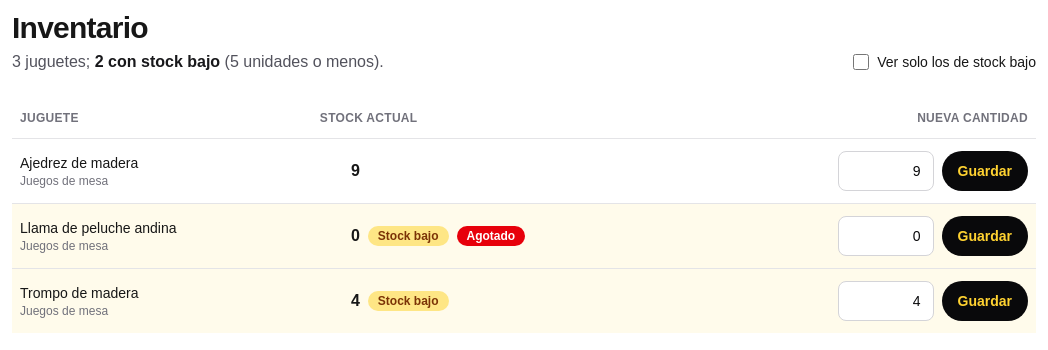
Test: VistaInventario (HU-13) › «Ver solo los de stock bajo» oculta los demás
Click the checkbox labelled "Ver solo los de stock bajo".
click(861, 62)  # box top-left (853, 54), bottom-right (869, 70)
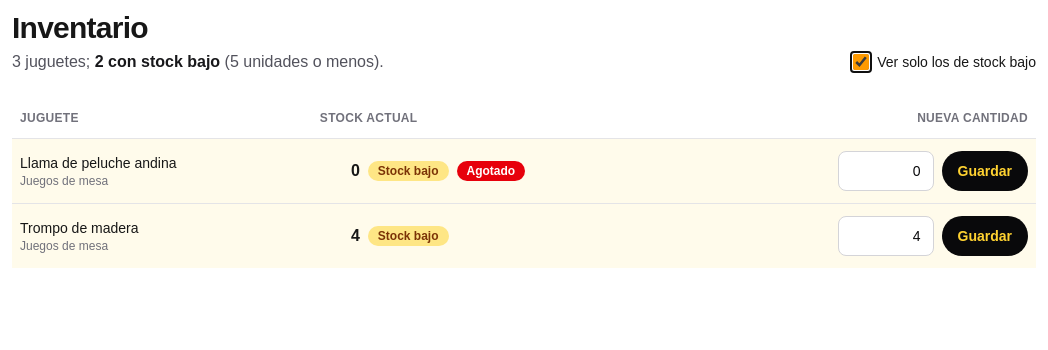
Check: the text "Trompo de madera" is shown, box top-left (20, 220), bottom-right (138, 236)
Check: the text "Ajedrez de madera" is gone
